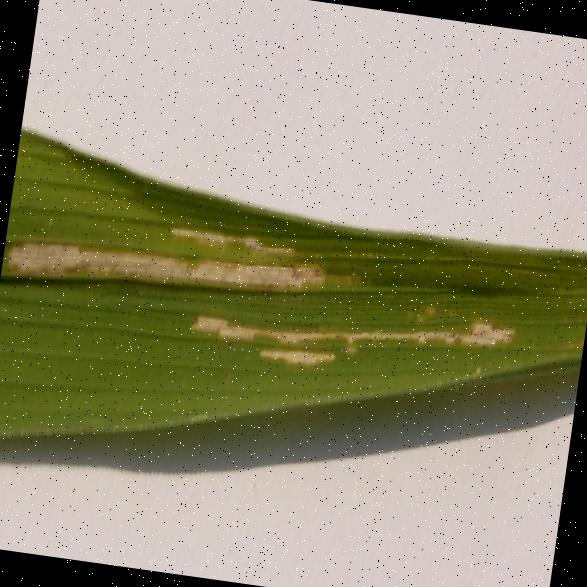Bacteria_Leaf_Blight: (0, 172, 548, 424)
